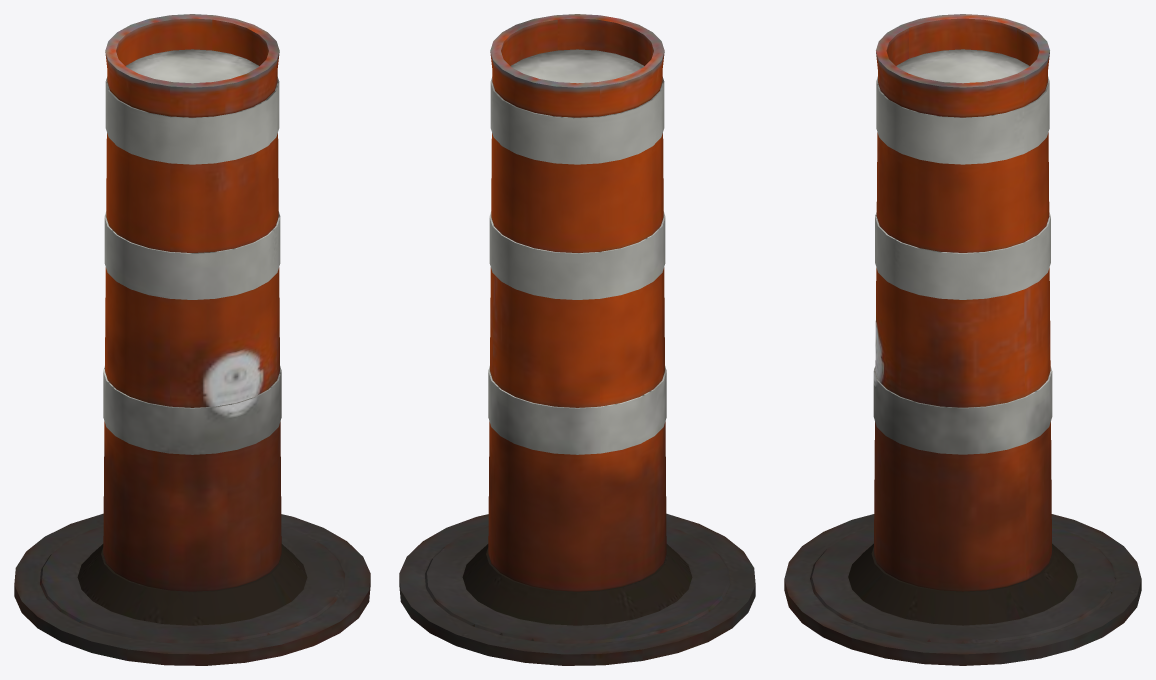
File: steam_vent.glb
3 views of the same model, side by side, from view 1: azimuth 30°, elevation 25°; view 2: azimuth 150°, elevation 25°; view 3: azimuth 270°, elevation 25° (orthographic).
Visible parts, largest first — view 1: steam_vent; view 2: steam_vent; view 3: steam_vent.
Boxes of the visible parts, x1,y1,x2,y2 form: steam_vent: (14,14,370,665); steam_vent: (399,14,755,665); steam_vent: (784,14,1141,665).
Size of what is drawn, in the model's own units: 0.84 by 1.4 by 0.84.
1 material, 1 textured.
